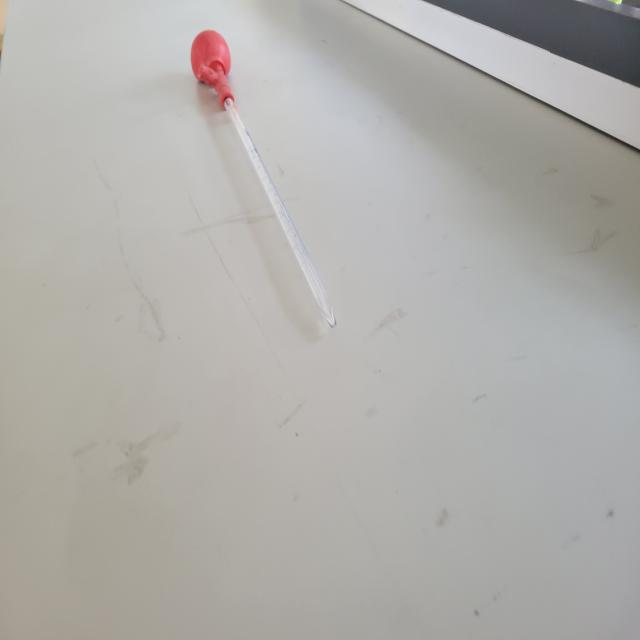Volumetric_Pipet: (167, 15, 357, 368)
